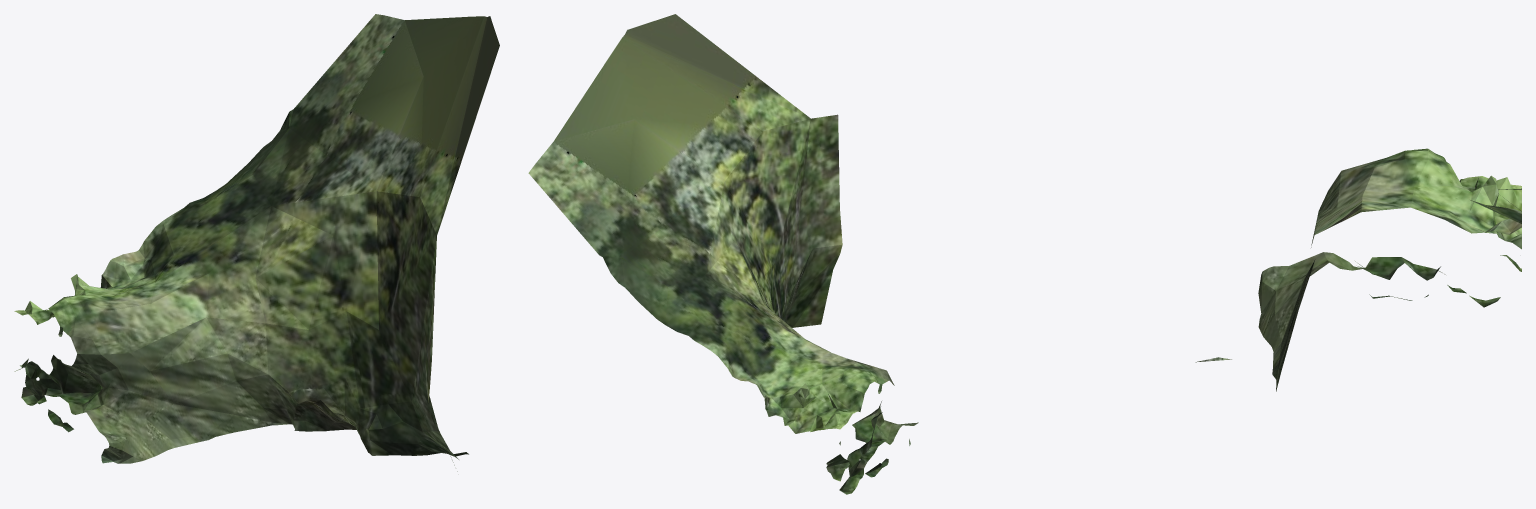
3 renders of one model, left to right at view 1: azimuth 30°, elevation 25°; view 2: azimuth 150°, elevation 25°; view 3: azimuth 270°, elevation 25°, orthographic. The views are drawn at different scales.
Size of the model in its own units: 26.11 by 26.11 by 26.11.
Materials: 3 (3 with a texture image).
